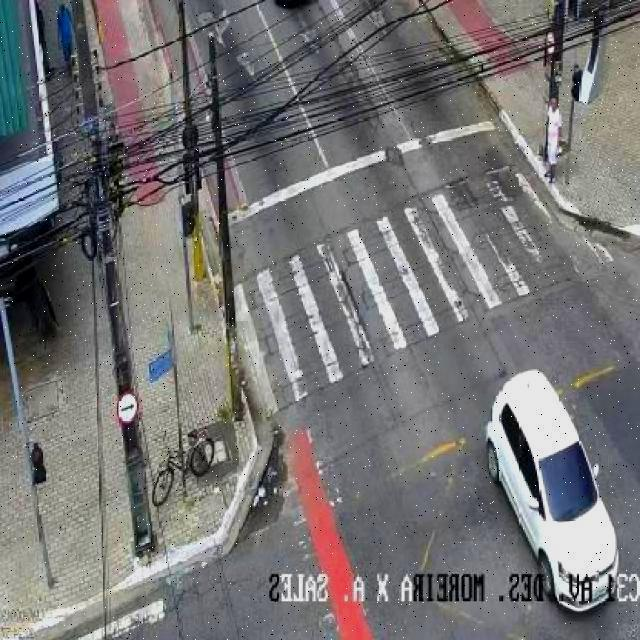Car: (482, 363, 623, 619)
Cycle: (146, 424, 217, 508)
